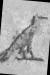G35: (2, 0, 49, 74)
